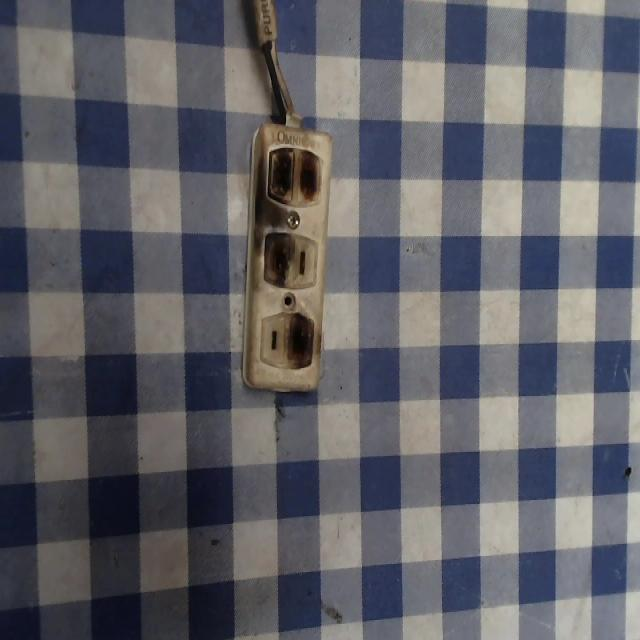-: (261, 137, 323, 211), (258, 222, 295, 290), (283, 308, 318, 372)
